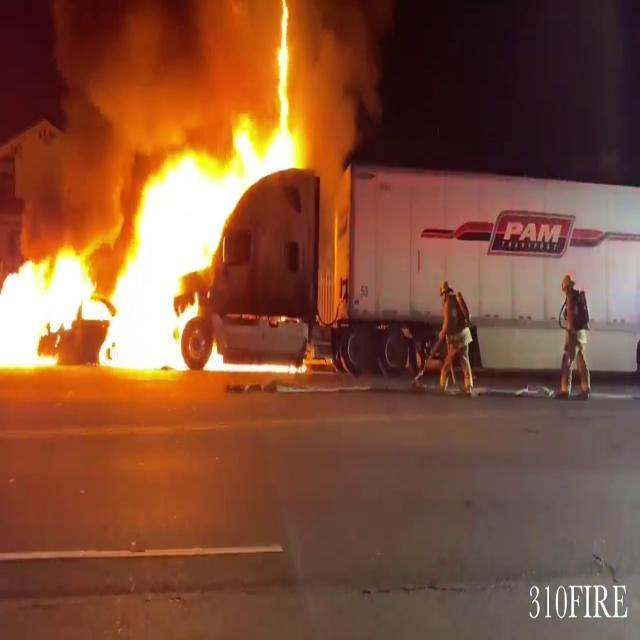Fire: (1, 119, 316, 380)
Smoke: (26, 0, 235, 162), (298, 0, 408, 175)
